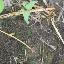Morning glory: (0, 0, 39, 30), (0, 58, 64, 64)
